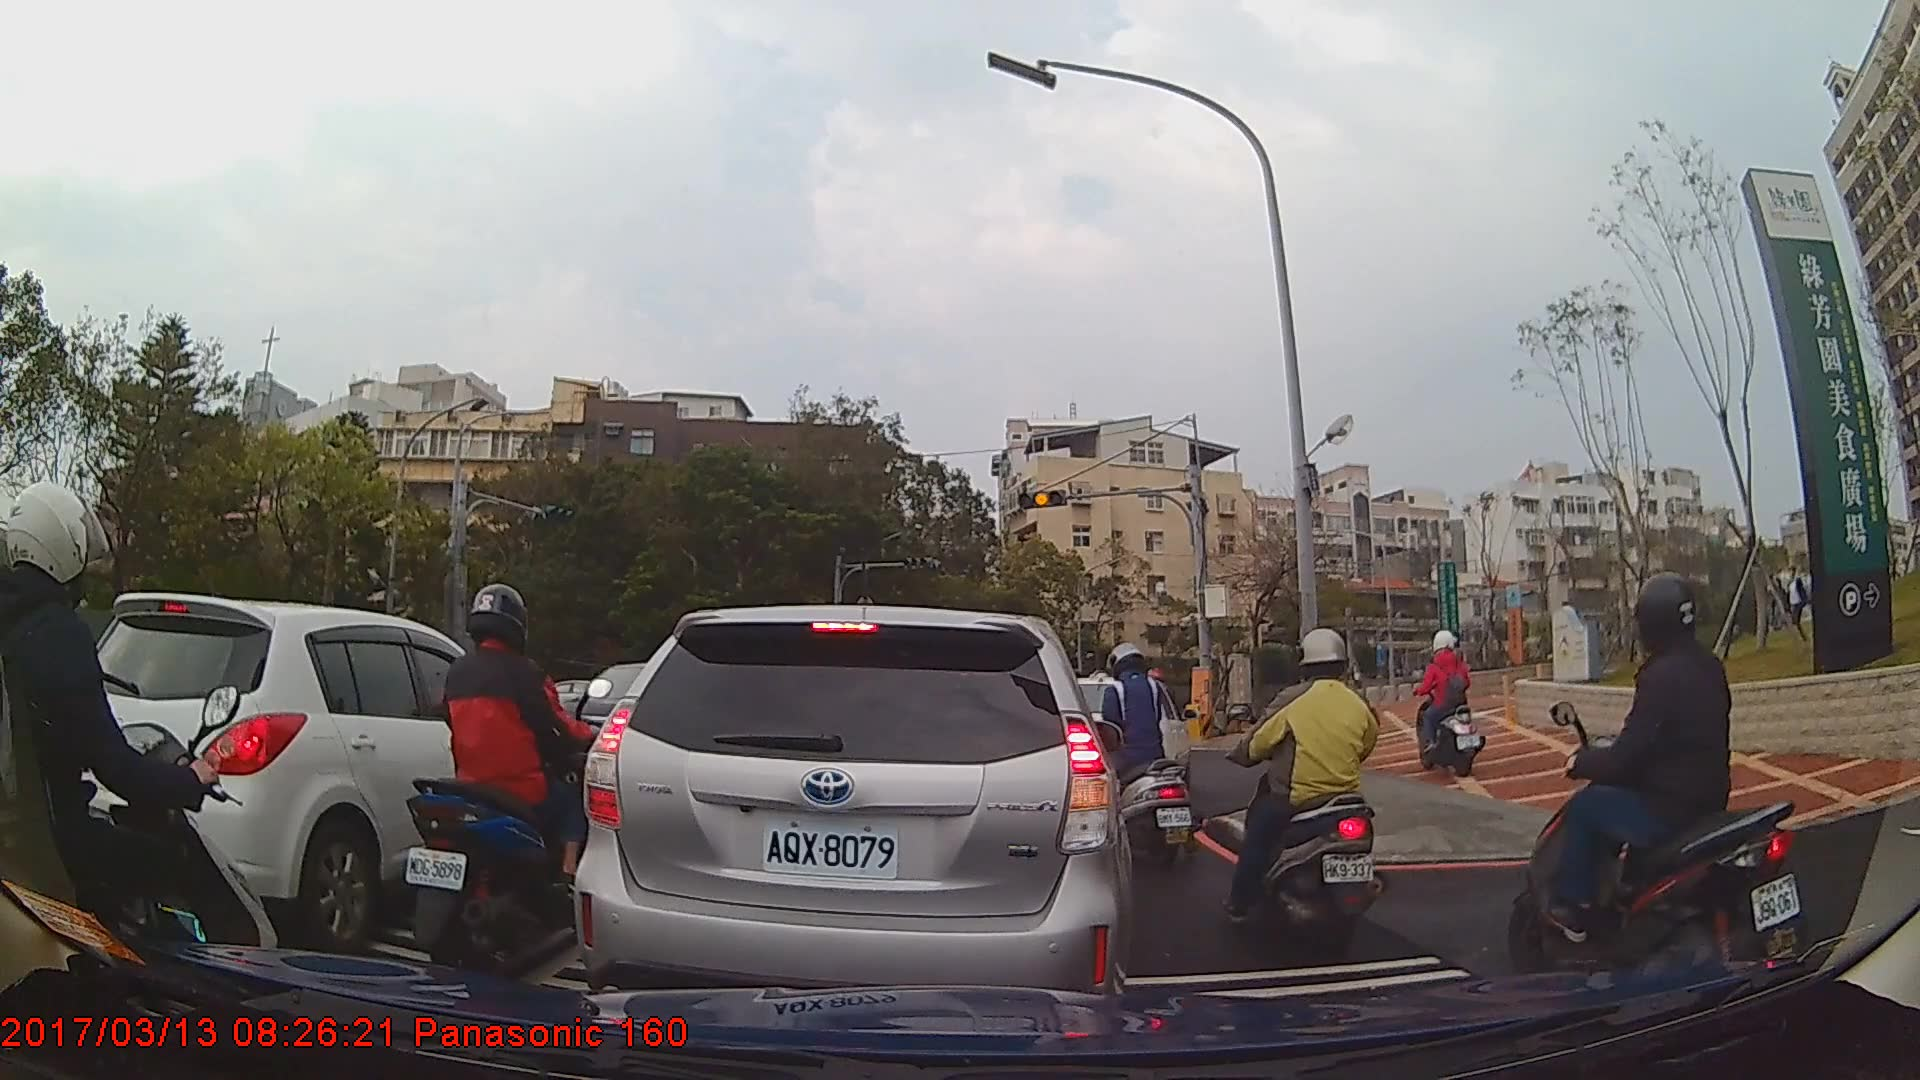pedestrian: (1773, 555, 1815, 628), (1765, 571, 1798, 636)
rider: (1, 477, 283, 1073), (1521, 569, 1816, 1013), (401, 578, 610, 977), (1220, 627, 1392, 942), (1087, 642, 1199, 863), (1410, 631, 1486, 777)
vehicle: (574, 604, 1133, 1023), (44, 591, 580, 955)
